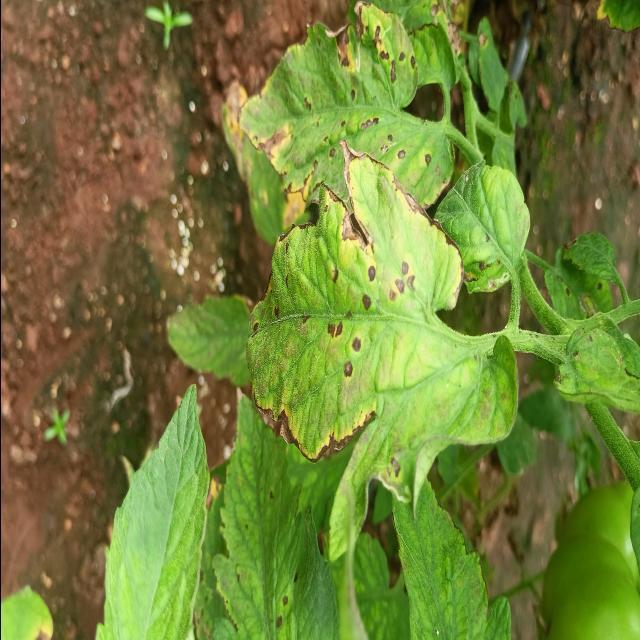Tomato mosaic virus leaf: (242, 131, 466, 469), (235, 0, 455, 219), (435, 154, 530, 298), (251, 508, 319, 640)
